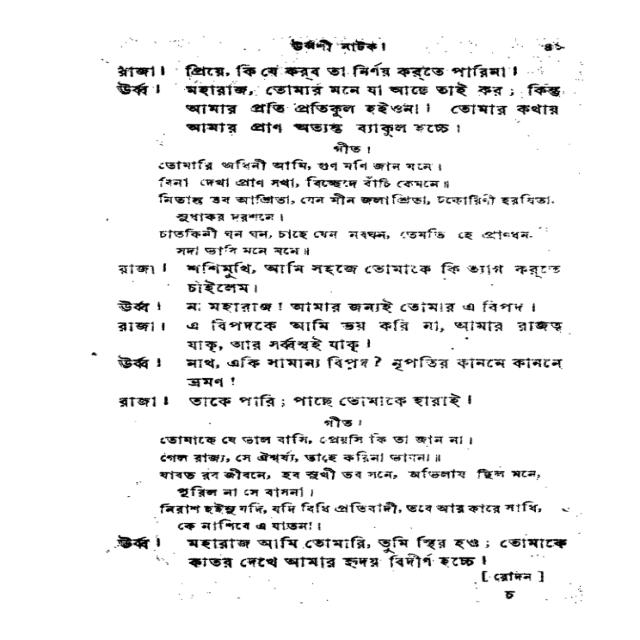page number: (539, 41, 575, 54)
paragraph: (149, 191, 559, 260), (104, 79, 569, 139), (152, 466, 547, 534), (109, 534, 578, 572), (112, 317, 570, 355), (111, 353, 568, 391), (114, 261, 566, 296), (155, 433, 478, 468), (154, 156, 457, 191), (104, 60, 525, 80), (114, 298, 545, 316), (112, 391, 476, 411)
text: (475, 569, 550, 584), (327, 139, 375, 157), (317, 416, 368, 430), (498, 587, 524, 601)
title: (277, 37, 395, 54)
